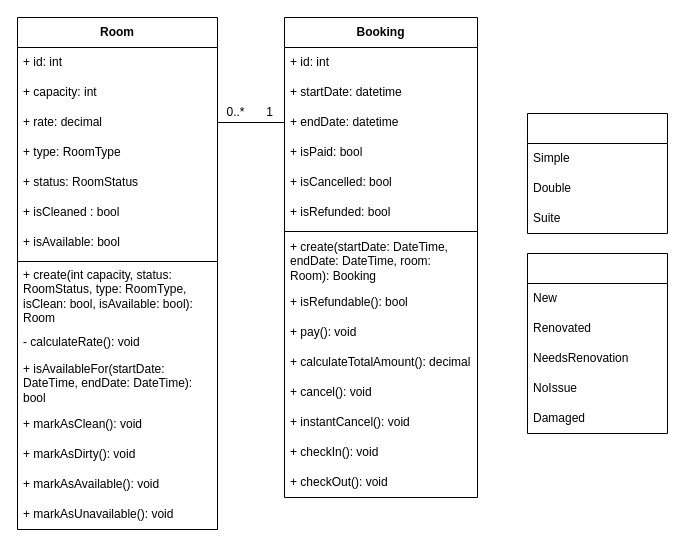
Image size: 685x547. Some labels were removed from this diagram. Here are the shapes that lost their labels. From the top down, the box of each, then its label:
(526, 112, 668, 234): <<enum>> RoomType
(526, 252, 668, 434): <<enum>> RoomStatus
